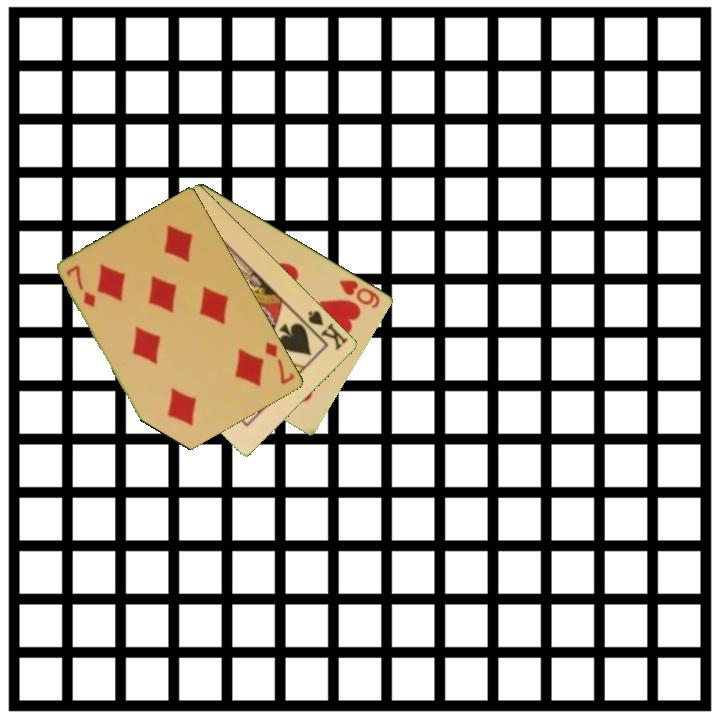6h: (336, 276, 383, 311)
7d: (262, 338, 298, 387), (63, 262, 99, 310)
Ks: (305, 307, 351, 353)
